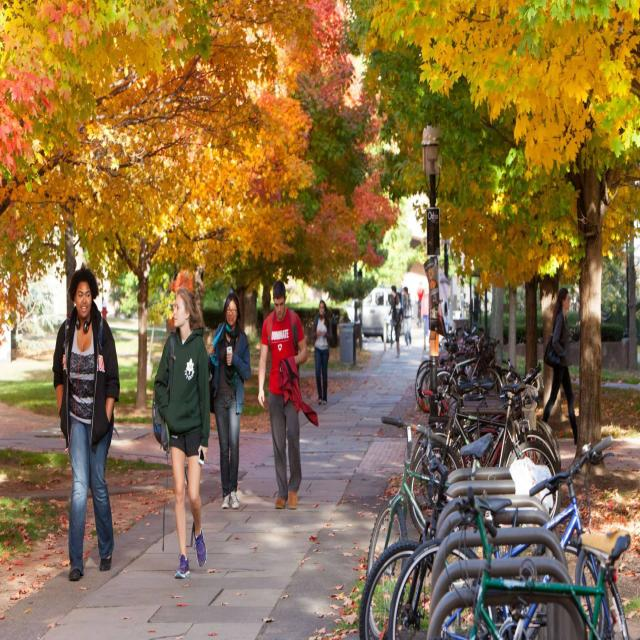body: (51, 265, 121, 584), (151, 286, 211, 580), (256, 278, 310, 511), (206, 291, 252, 511), (540, 287, 580, 447), (311, 299, 334, 406), (415, 280, 430, 352), (390, 292, 405, 359), (402, 286, 414, 348), (388, 284, 398, 346), (467, 284, 480, 326)
